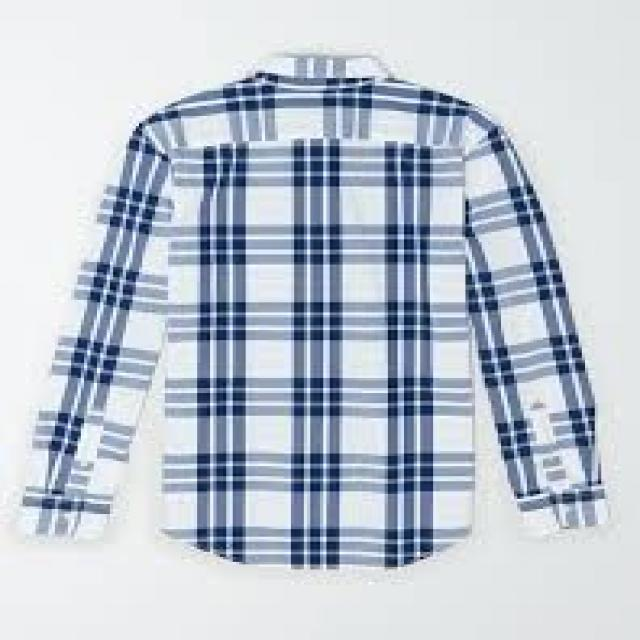plaid: (0, 50, 640, 590)
